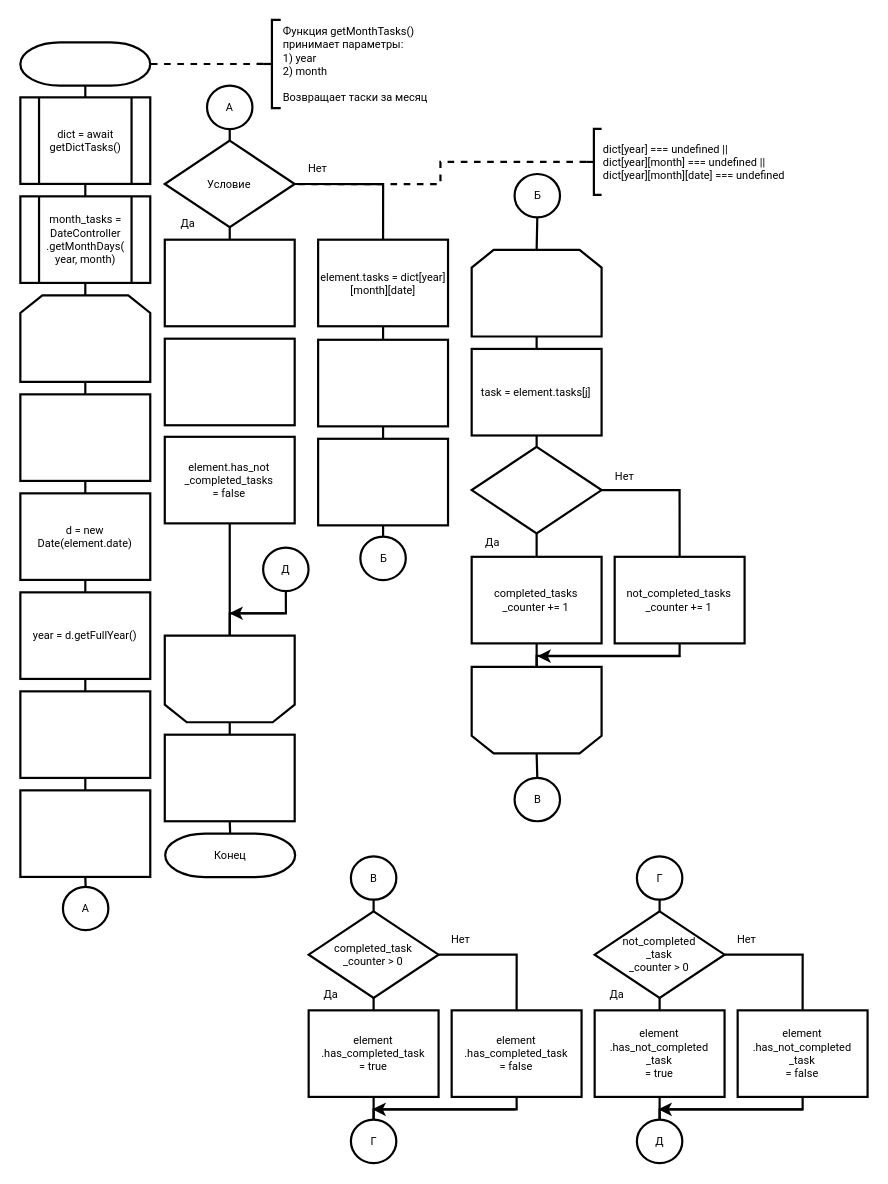
Image size: 888x1184. Some labels were removed from this diagram. Here are the shapes that lost their labels. From the top down, the centre of each, then its label:
At point (85, 63): "Начало".
At point (229, 282): "element.tasks = []".
At point (536, 292): "j = 0 j <= element.tasks.length".
At point (85, 338): "i = 0 i < month_tasks.length".
At point (229, 381): "element.has_completed _tasks = false".
At point (382, 382): "completed_tasks _counter = 0".
At point (85, 437): "element = month_tasks[i]".
At point (382, 481): "not_completed_tasks _counter = 0".
At point (536, 489): "task.IsCompleted".
At point (229, 678): "++i".
At point (536, 709): "++j".
At point (85, 734): "month = d.getMonth() + 1".
At point (229, 777): "return month_tasks".
At point (85, 833): "date = d.getDate()".
